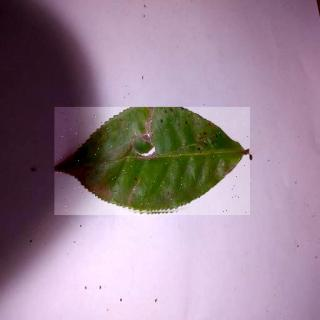Bird Eye Spot: (56, 109, 252, 218)
